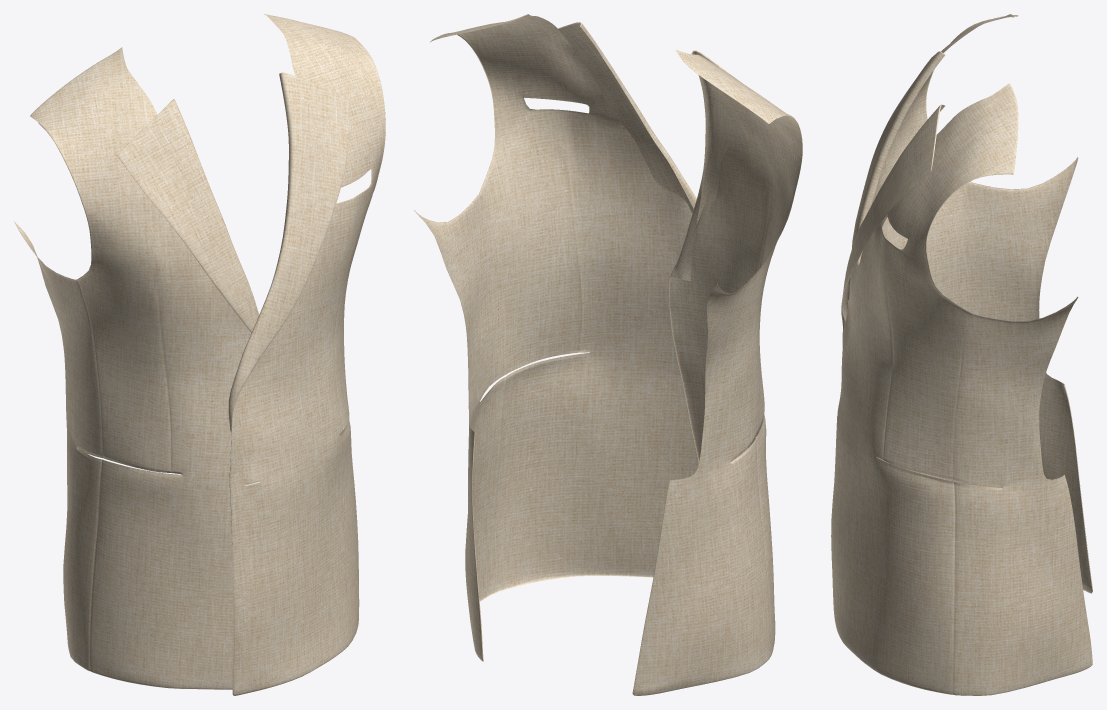
File: noch_double_breasted.glb
3 renders of one model, left to right at view 1: azimuth 30°, elevation 25°; view 2: azimuth 150°, elevation 25°; view 3: azimuth 270°, elevation 25°, orthographic. The views are drawn at different scales.
Visible parts, largest first — view 1: noch_double_breasted; view 2: noch_double_breasted; view 3: noch_double_breasted.
Boxes of the visible parts, x1,y1,x2,y2 form: noch_double_breasted: (14, 14, 385, 695); noch_double_breasted: (414, 14, 802, 695); noch_double_breasted: (831, 14, 1092, 695).
Size of the model in its own units: 0.0585 by 0.1017 by 0.0414.
2 materials, 1 textured.
